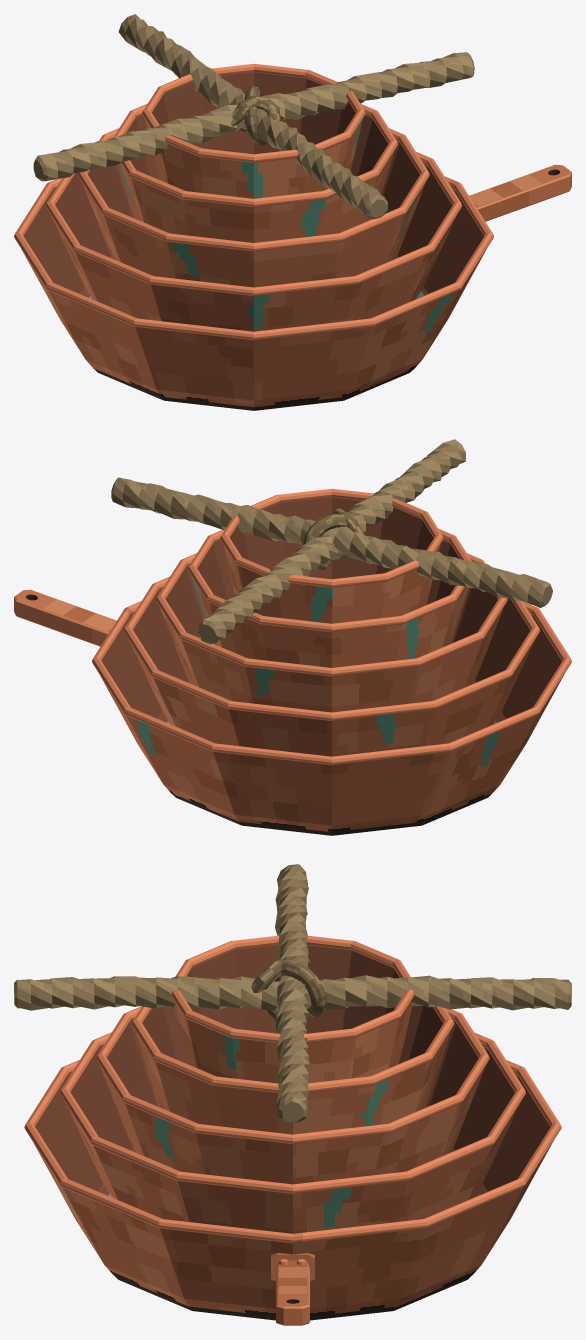
Rendered from 捞获-一摞铜锅.glb.
The picture shows the model from 3 angles, top to bottom: view 1: azimuth 30°, elevation 25°; view 2: azimuth 150°, elevation 25°; view 3: azimuth 270°, elevation 25°; orthographic projection. The views are drawn at different scales.
Parts seen in each view (by area): view 1: metal_pans, matte_hemp; view 2: metal_pans, matte_hemp; view 3: metal_pans, matte_hemp.
Part boxes in pixels (left/top/right/bottom): metal_pans: left=14, top=63, right=571, bottom=410; matte_hemp: left=33, top=14, right=474, bottom=219; metal_pans: left=14, top=488, right=571, bottom=835; matte_hemp: left=111, top=439, right=552, bottom=644; metal_pans: left=24, top=935, right=561, bottom=1325; matte_hemp: left=14, top=864, right=571, bottom=1122.
Bounding box in the file's own units: 0.8103 × 0.3592 × 0.6606.
Materials: 2 (2 with a texture image).
